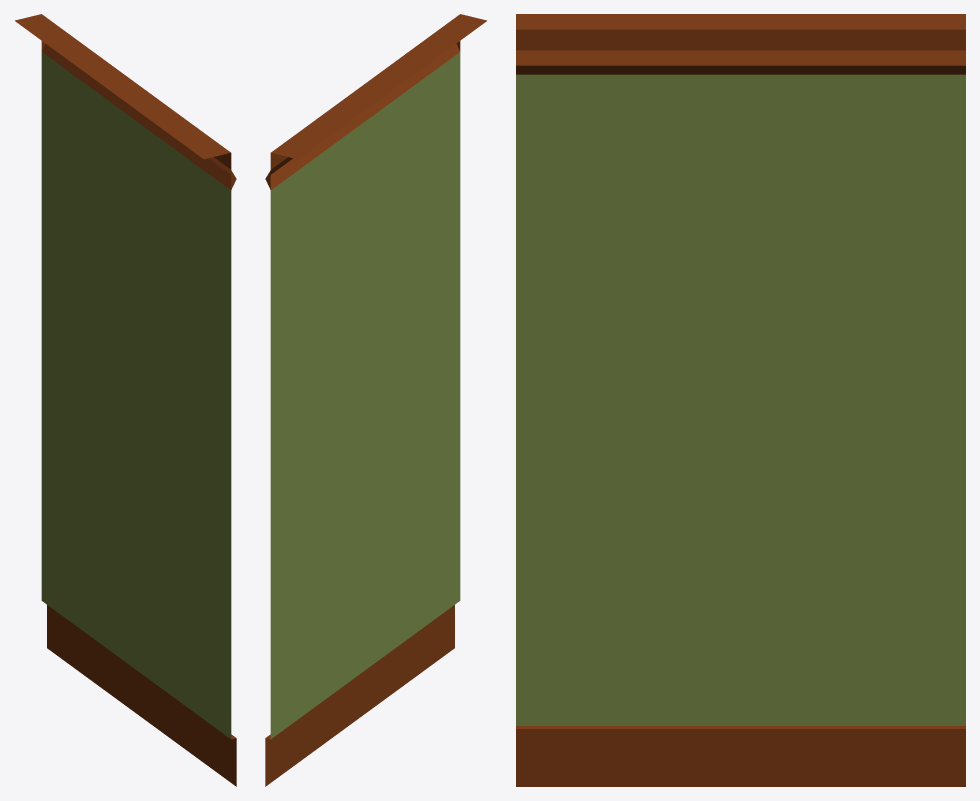
Rendered from g_t_GreenWall.fbx.
3 views of the same model, side by side, from view 1: azimuth 30°, elevation 25°; view 2: azimuth 150°, elevation 25°; view 3: azimuth 270°, elevation 25° (orthographic). The views are drawn at different scales.
Parts seen in each view (by area): view 1: g_t_GreenWall; view 2: g_t_GreenWall; view 3: g_t_GreenWall.
Part boxes in pixels (bbox=[...]): g_t_GreenWall: bbox=[15, 14, 236, 786]; g_t_GreenWall: bbox=[265, 14, 486, 786]; g_t_GreenWall: bbox=[516, 14, 965, 786].
Size of the model in its own units: 9.99 by 185 by 100.
